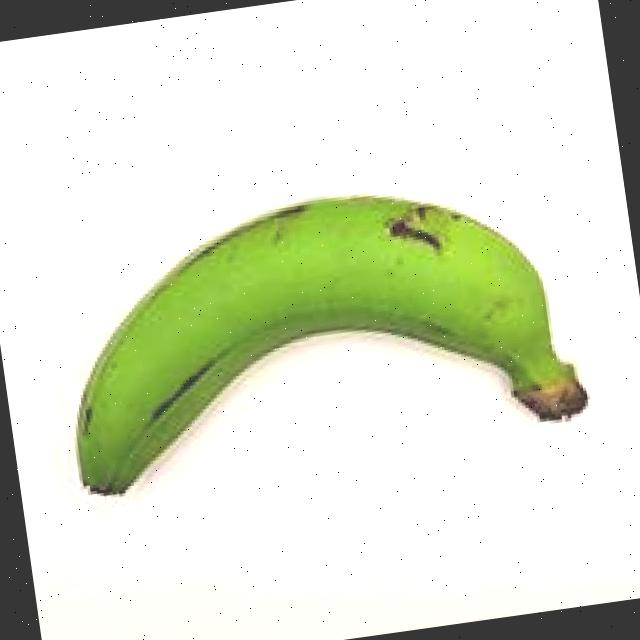Raw: (24, 140, 618, 572)
